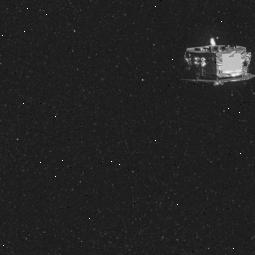lisa_pathfinder: (168, 25, 255, 101)
